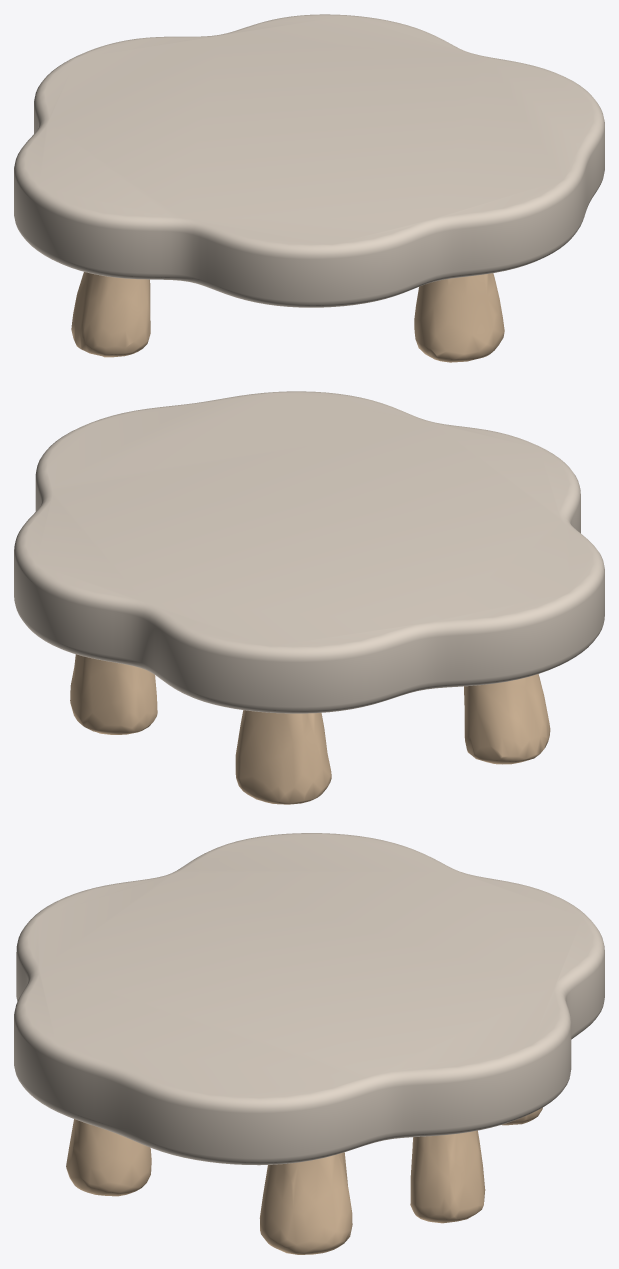
File: daisy_table.glb
3 renders of one model, top to bottom at view 1: azimuth 30°, elevation 25°; view 2: azimuth 150°, elevation 25°; view 3: azimuth 270°, elevation 25°, orthographic. The views are drawn at different scales.
Bounding box in the file's own units: 2.15 × 0.6735 × 1.96.
